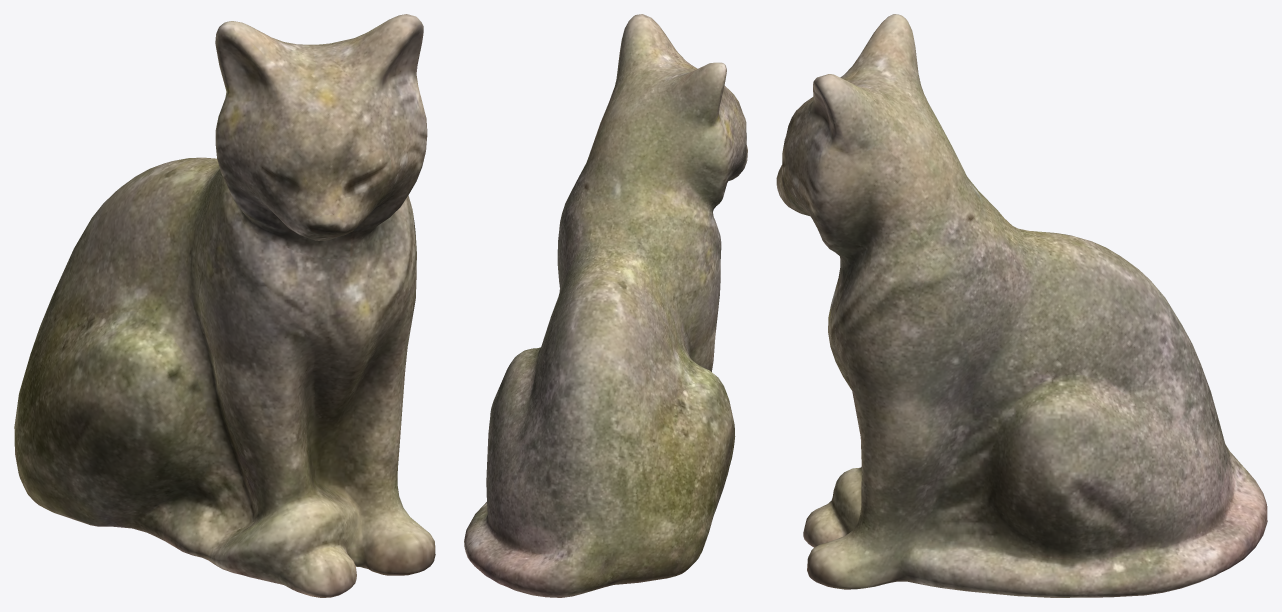
File: ph2_concrete_cat_statue.glb
3 renders of one model, left to right at view 1: azimuth 30°, elevation 25°; view 2: azimuth 150°, elevation 25°; view 3: azimuth 270°, elevation 25°, orthographic. The views are drawn at different scales.
Bounding box in the file's own units: 0.153 × 0.2828 × 0.25.
1 material, 1 textured.
